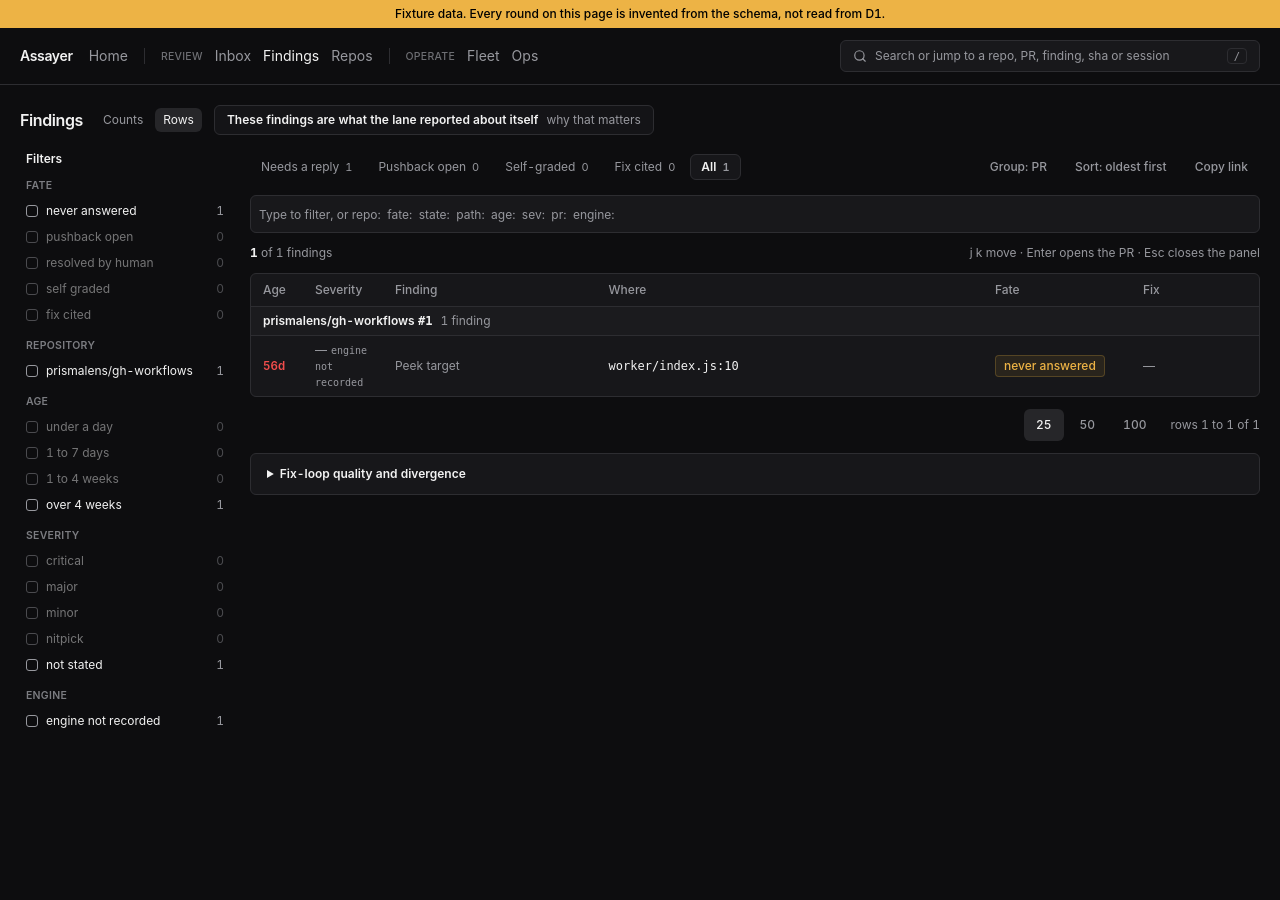
Test case: /findings: the inbox › a row click opens the peek panel
Expected: the text "Peek target" is shown, x1=395 y1=358 x2=460 y2=373
Click the row with test id "finding-row": (755, 366) x1=251 y1=336 x2=1259 y2=396
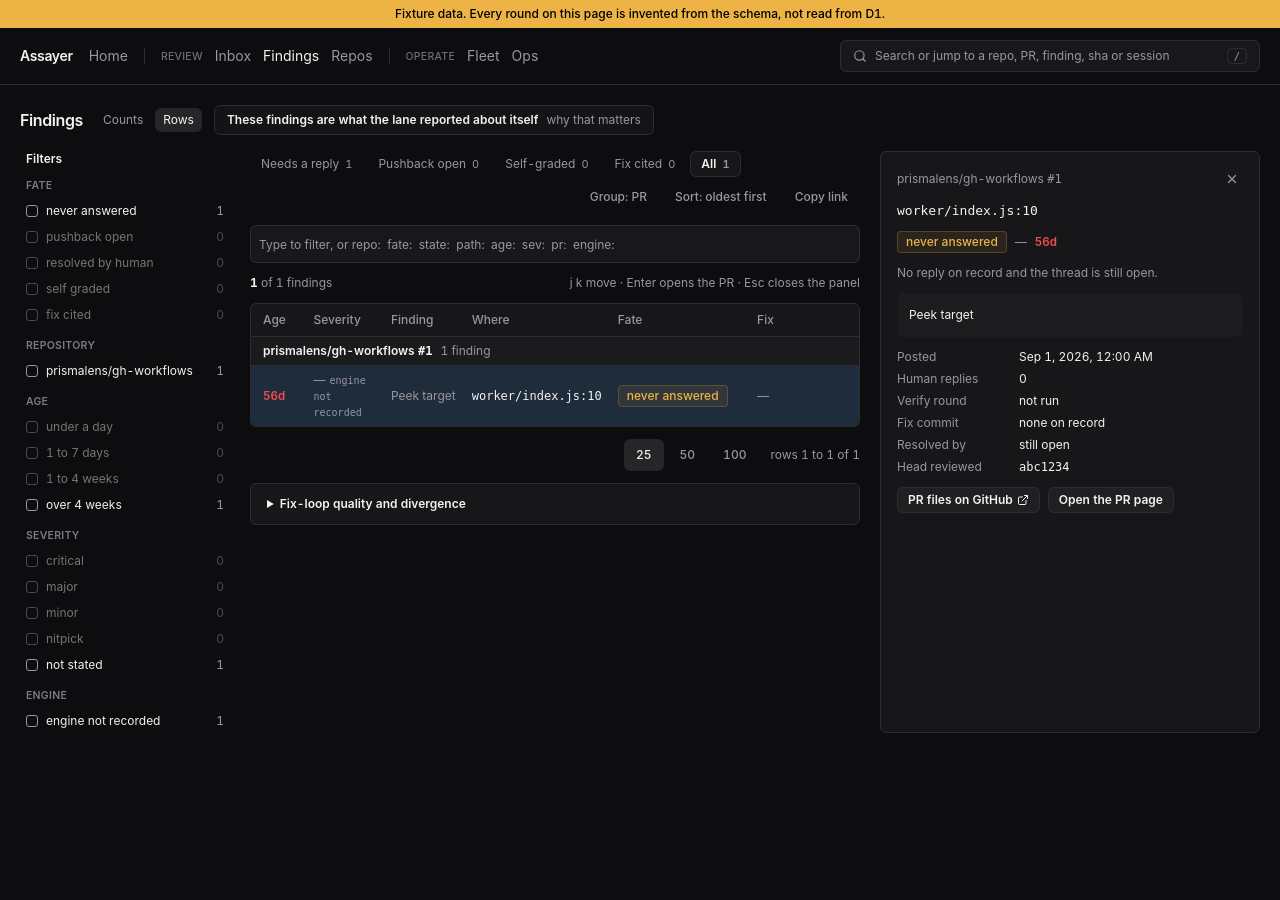
Now the element with test id "finding-peek" is shown, box x1=880 y1=151 x2=1260 y2=733
Now the text "worker/index.js:10" is shown, box x1=897 y1=203 x2=1038 y2=218
